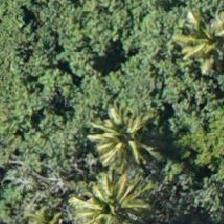coconut_tree: (77, 89, 167, 179), (60, 168, 150, 223), (0, 176, 86, 223)
